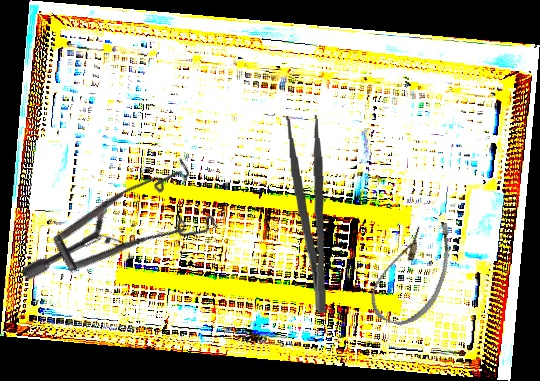Cannula: (364, 207, 463, 335)
Dressing Forceps: (284, 114, 332, 315)
Speculum: (19, 123, 238, 352)
